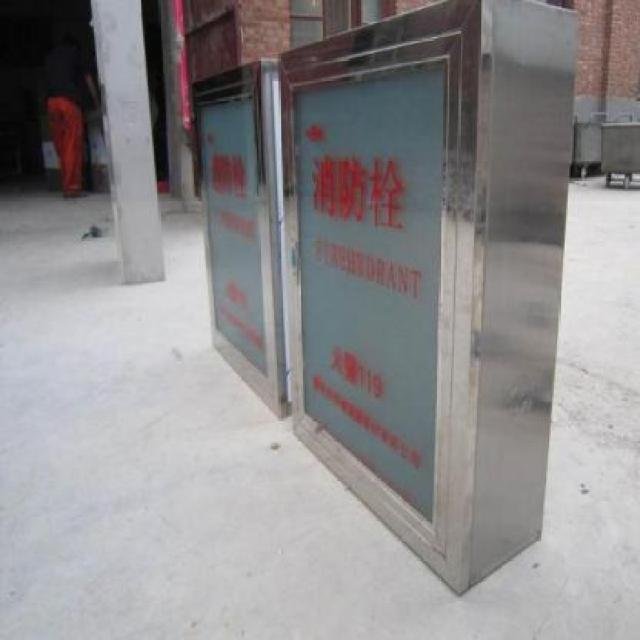firehydrant: (272, 0, 586, 605), (185, 49, 290, 427)
